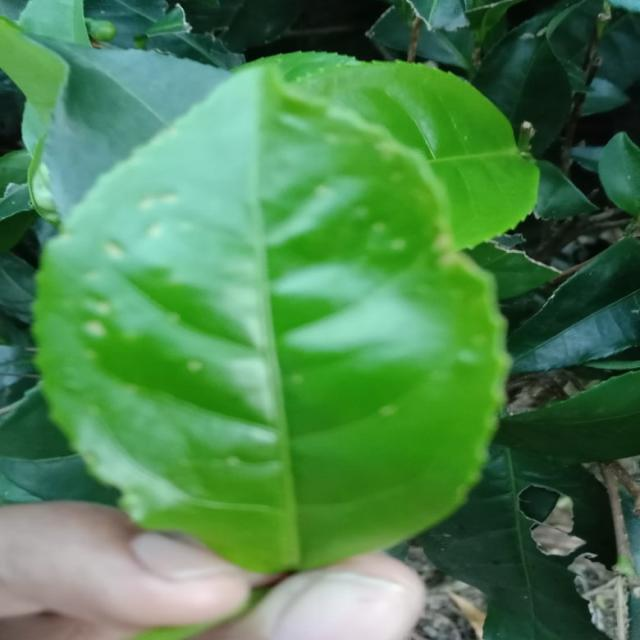Category C 4-7 days: (15, 49, 522, 576)
